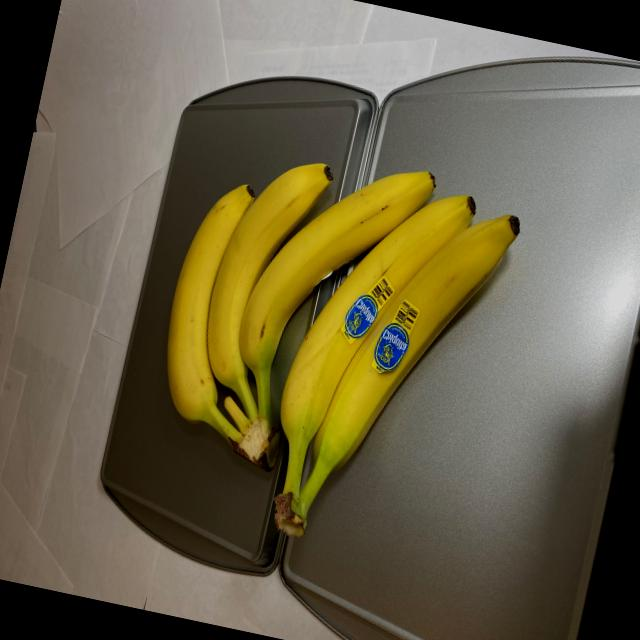banana: (123, 118, 532, 576)
